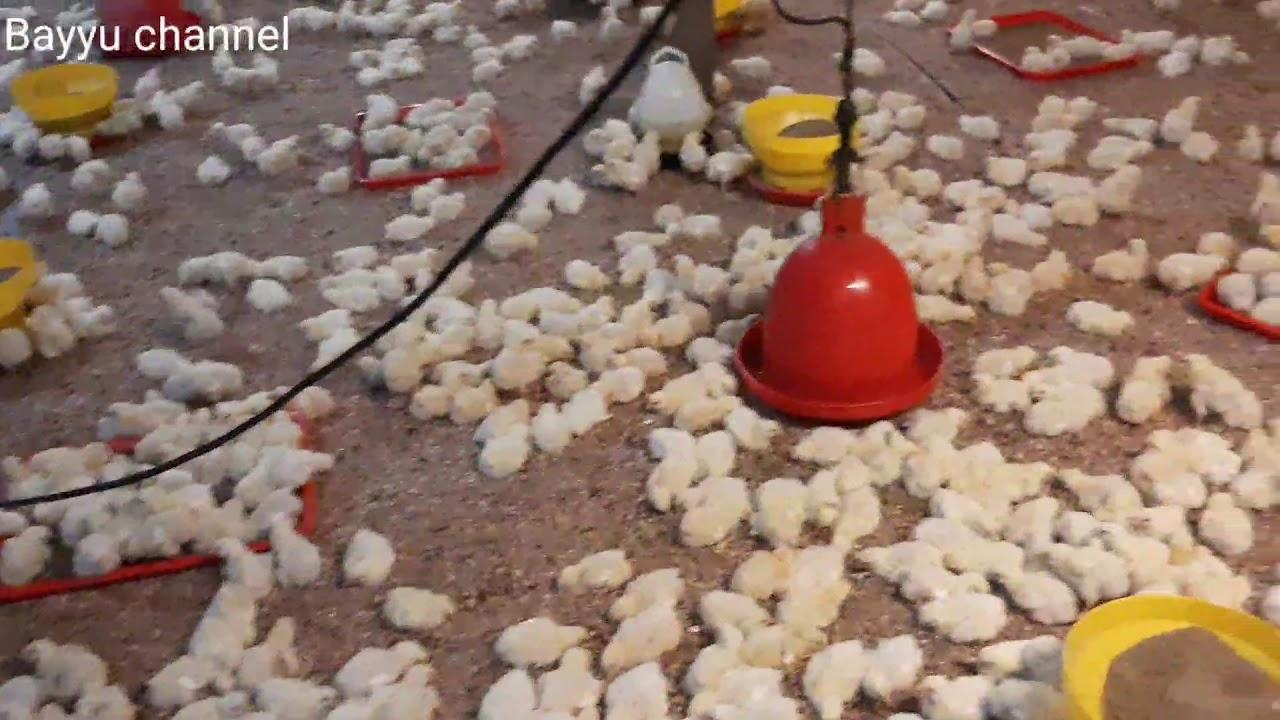chicken: (1182, 347, 1261, 427), (338, 638, 430, 696), (675, 474, 750, 545), (603, 604, 680, 672), (1043, 542, 1132, 598), (805, 642, 864, 716), (919, 592, 1008, 640), (603, 568, 686, 619), (499, 618, 587, 666), (240, 614, 299, 684), (268, 510, 323, 585), (1119, 351, 1173, 423), (918, 673, 1002, 719), (217, 539, 280, 595), (864, 634, 919, 697), (381, 585, 457, 630), (381, 330, 432, 395), (556, 549, 632, 592), (342, 528, 395, 589), (479, 422, 532, 478), (969, 370, 1030, 413), (704, 151, 758, 195), (1067, 299, 1132, 333), (534, 402, 569, 453), (603, 158, 649, 191), (639, 128, 664, 175), (679, 130, 706, 171)
